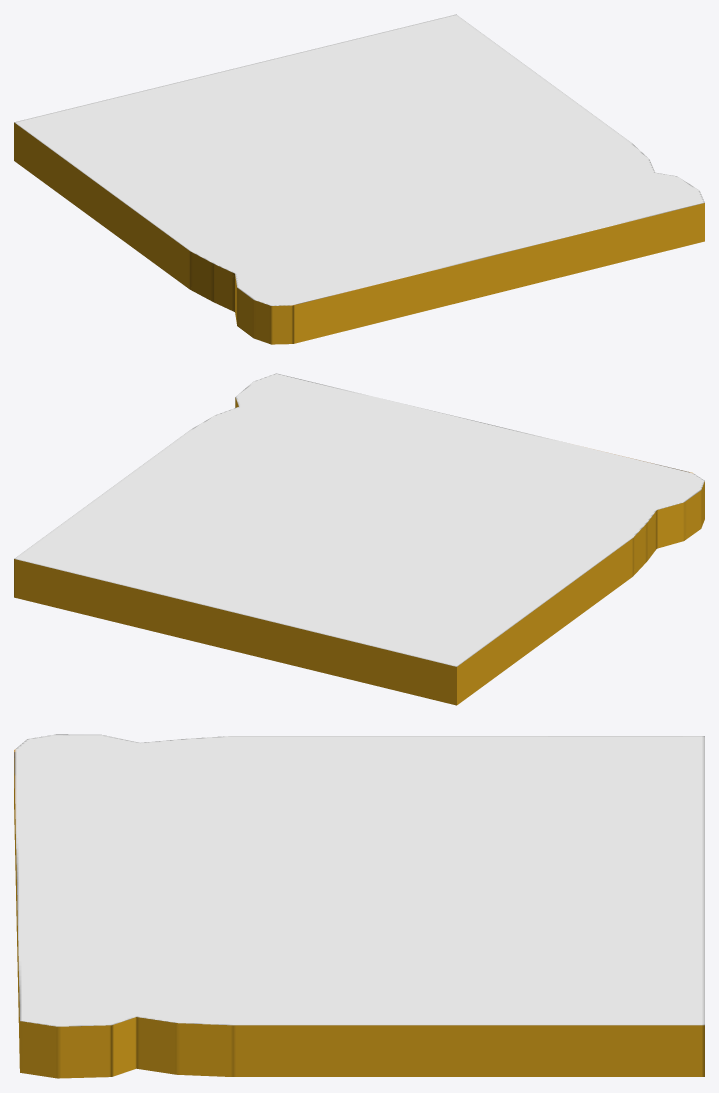
The model's file is bread.glb.
The picture shows the model from 3 angles, top to bottom: view 1: azimuth 30°, elevation 25°; view 2: azimuth 150°, elevation 25°; view 3: azimuth 270°, elevation 25°; orthographic projection. The views are drawn at different scales.
Parts seen in each view (by area): view 1: Cube; view 2: Cube; view 3: Cube.
Part boxes in pixels (x1,y1,x2,y2): Cube: [14, 14, 704, 344]; Cube: [14, 373, 704, 705]; Cube: [14, 734, 704, 1078].
Bounding box in the file's own units: 0.6059 × 0.05 × 0.6052.
Materials: 1 (1 with a texture image).
